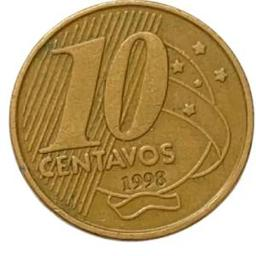10 cent: (7, 0, 254, 241)
